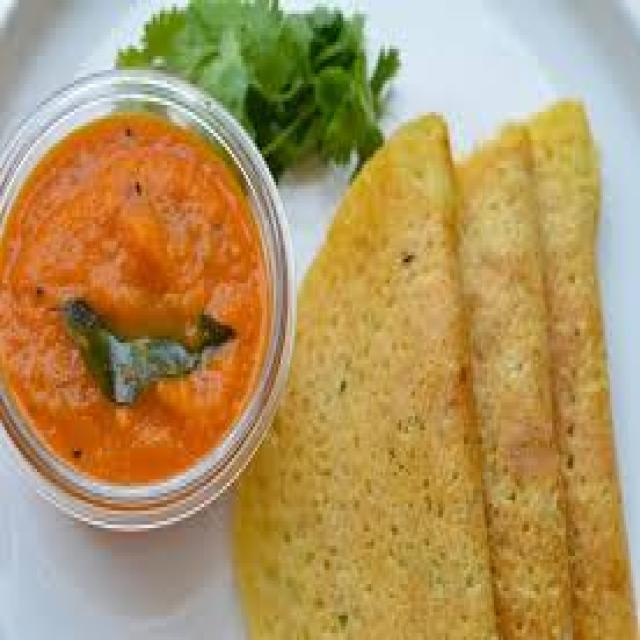DOSA: (237, 115, 494, 637), (529, 101, 633, 637), (459, 126, 568, 637)
